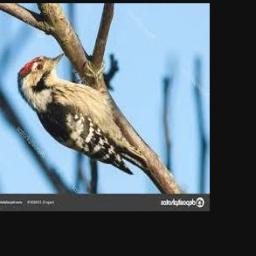Woodpecker: (17, 53, 149, 175)
